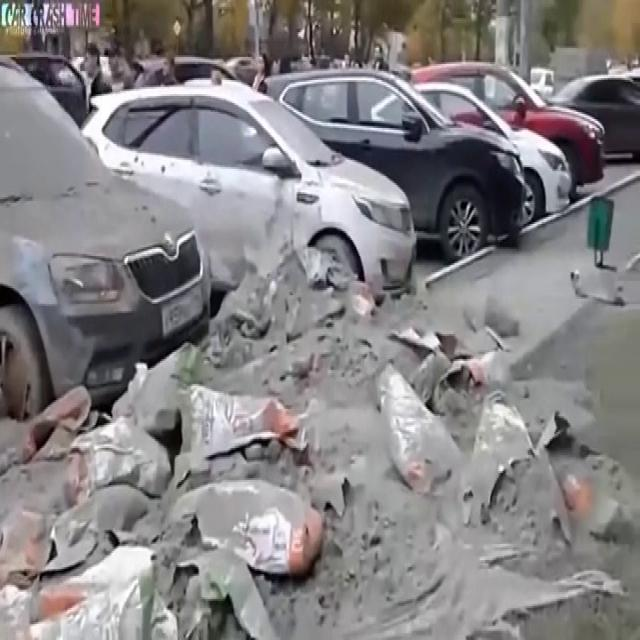accident: (14, 196, 366, 433)
